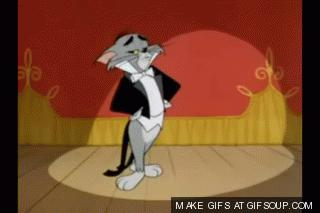tom: (92, 31, 182, 188)
